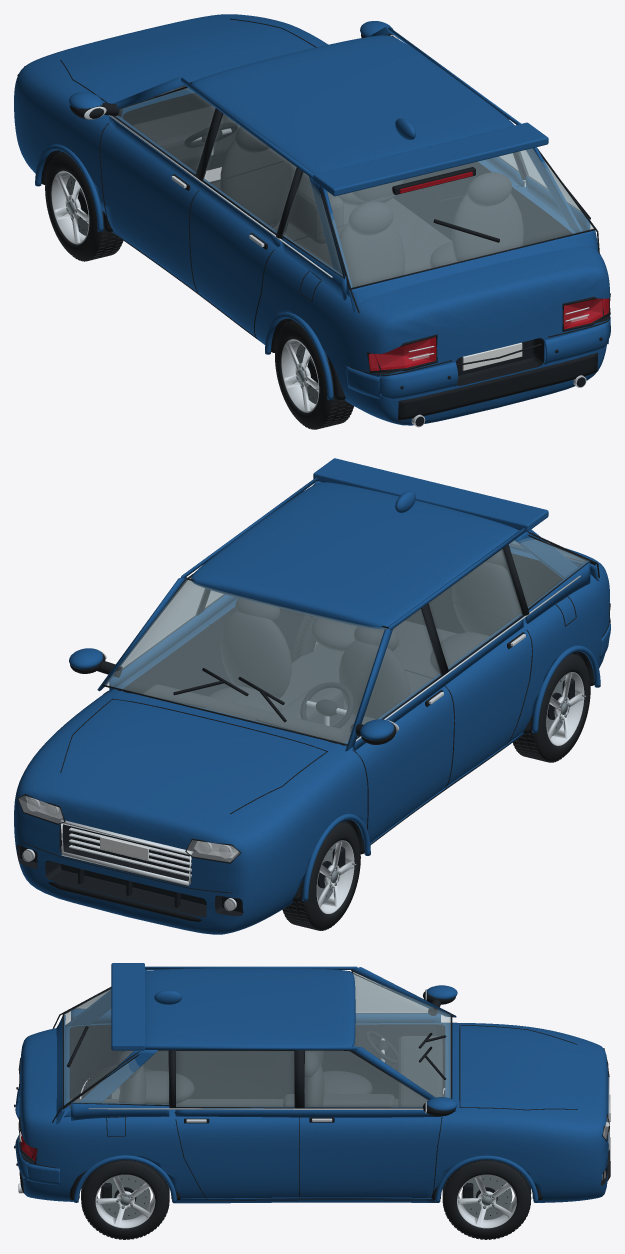
Rendered from compacto.glb.
3 views of the same model, one above another, from view 1: azimuth 30°, elevation 25°; view 2: azimuth 150°, elevation 25°; view 3: azimuth 270°, elevation 25° (orthographic). The views are drawn at different scales.
Visible parts, largest first — view 1: Watertight 14-station body shell, Crowned roof pressing, Tailgate rear glazing, Roof spoiler lip, Rear side door glass, Front side door glass, Sculpted rear lower bumper insert, Contoured seat back, Formed painted rear bumper cover, Contoured seat back.003, Cabin carpet, Contoured seat back.002 (+34 smaller); view 2: Watertight 14-station body shell, Crowned roof pressing, Raked laminated windshield, Rear side door glass, Roof spoiler lip, Contoured seat back.001, Front side door glass, Cabin carpet, Contoured seat back.002, Contoured seat back, Rear quarter glass, Instrument panel (+31 smaller); view 3: Watertight 14-station body shell, Crowned roof pressing, Raked laminated windshield, Rear side door glass.001, Front side door glass.001, Tailgate rear glazing, Rear quarter glass.001, 107 reused Sculpted_tyre.001, 107 reused Sculpted_tyre.003, Roof spoiler lip, Instrument panel, Painted door glazing lower sill.001 (+33 smaller).
Part boxes in pixels (box(x1,y1,x2,y2)): Watertight 14-station body shell: box(14, 14, 610, 425); Crowned roof pressing: box(191, 35, 514, 174); Tailgate rear glazing: box(327, 148, 593, 287); Roof spoiler lip: box(313, 122, 548, 196); Rear side door glass: box(203, 114, 296, 232); Front side door glass: box(115, 88, 215, 174); Sculpted rear lower bumper insert: box(397, 352, 598, 420); Contoured seat back: box(220, 139, 291, 225); Formed painted rear bumper cover: box(378, 320, 610, 399); Contoured seat back.003: box(452, 193, 523, 261); Cabin carpet: box(210, 179, 451, 274); Contoured seat back.002: box(339, 222, 404, 287); Watertight 14-station body shell: box(14, 541, 609, 934); Crowned roof pressing: box(191, 482, 519, 629); Raked laminated windshield: box(105, 579, 386, 743); Rear side door glass: box(428, 549, 522, 668); Roof spoiler lip: box(313, 458, 548, 531); Contoured seat back.001: box(220, 611, 291, 698); Front side door glass: box(357, 609, 440, 736); Cabin carpet: box(279, 620, 457, 715); Contoured seat back.002: box(452, 562, 520, 635); Contoured seat back: box(339, 640, 410, 718); Rear quarter glass: box(508, 538, 588, 608); Instrument panel: box(143, 684, 350, 743); Watertight 14-station body shell: box(19, 1022, 608, 1203); Crowned roof pressing: box(145, 968, 355, 1046); Raked laminated windshield: box(353, 972, 450, 1098); Rear side door glass.001: box(176, 1051, 294, 1107); Front side door glass.001: box(304, 1050, 428, 1107); Tailgate rear glazing: box(64, 988, 133, 1104); Rear quarter glass.001: box(72, 1050, 168, 1104); 107 reused Sculpted_tyre.001: box(443, 1160, 530, 1239); 107 reused Sculpted_tyre.003: box(81, 1160, 168, 1239); Roof spoiler lip: box(111, 963, 144, 1050); Instrument panel: box(398, 1036, 442, 1106); Painted door glazing lower sill.001: box(175, 1106, 440, 1117).
Size of the model in its own units: 2.05 by 1.56 by 4.21.
10 materials, 10 textured.
